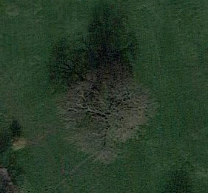tree: (50, 62, 163, 168)
